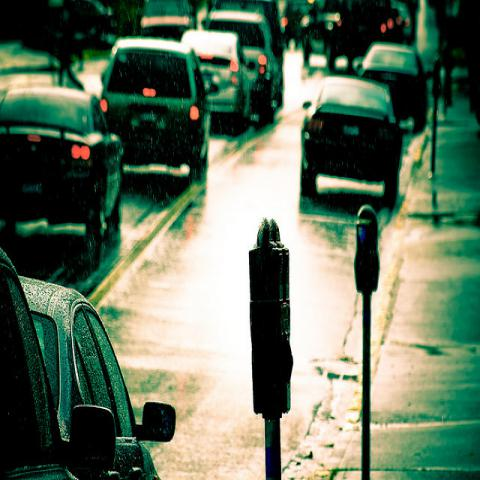car: (19, 274, 177, 479), (0, 87, 123, 284), (98, 38, 213, 181), (301, 72, 413, 208), (0, 242, 57, 419), (202, 8, 283, 131), (300, 0, 406, 78), (351, 42, 431, 136), (181, 27, 248, 133), (139, 0, 196, 42), (282, 1, 310, 48)
